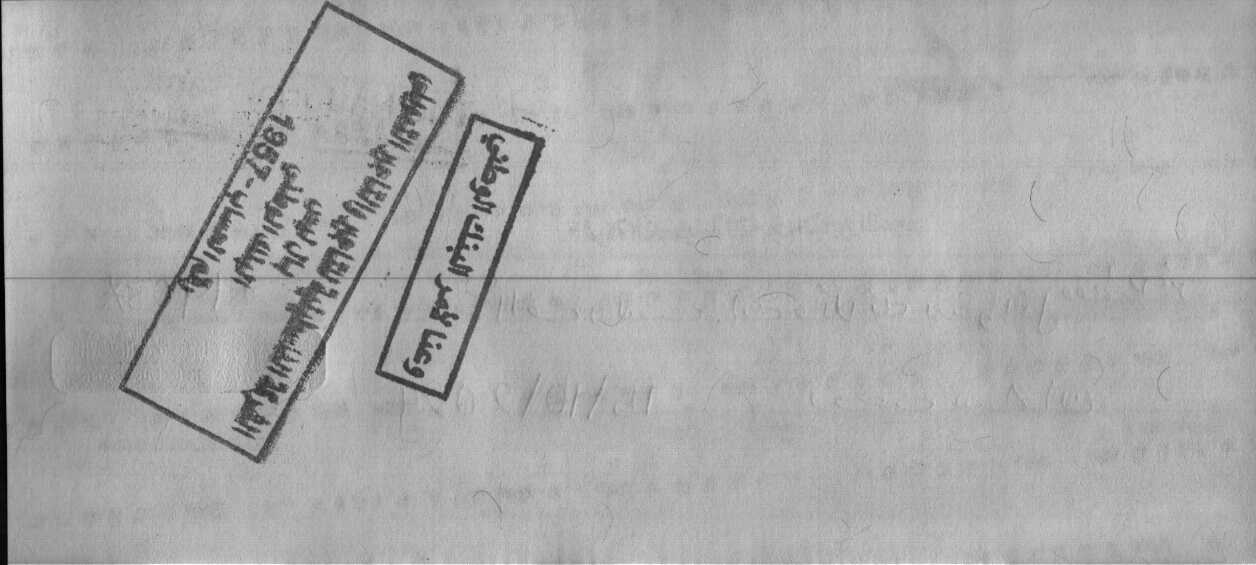stamp: (117, 0, 467, 467), (373, 111, 549, 405)
